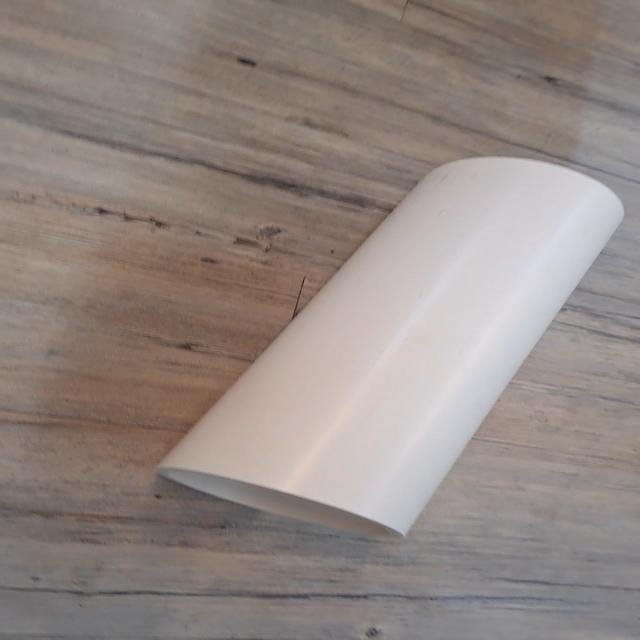CORAL: (134, 148, 630, 548)
